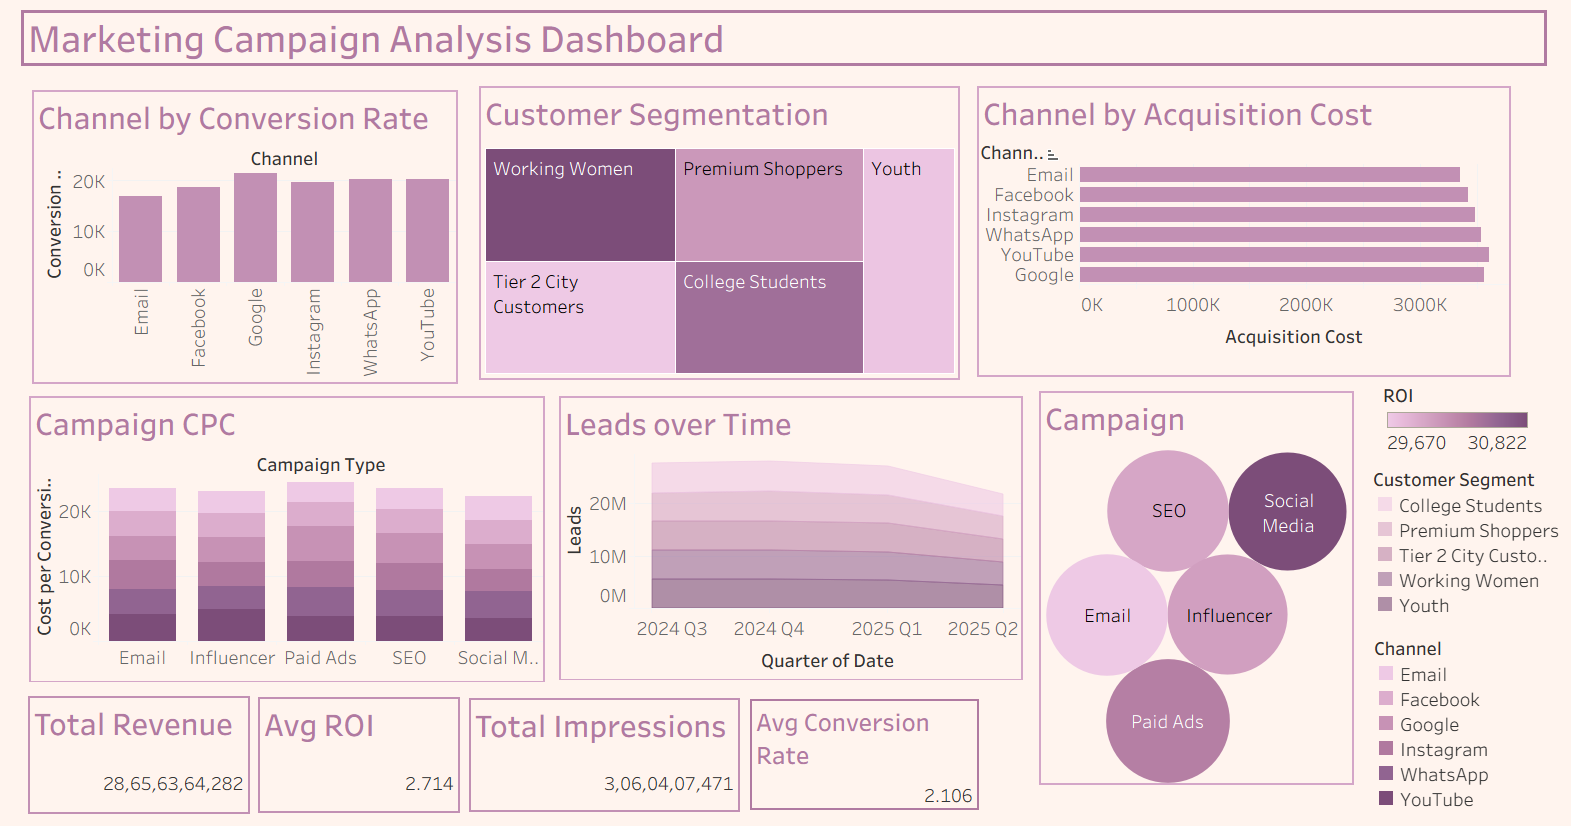

Layout of this report page (visuals, bound fields, positions):
{"tool":"tableau","page":{"name":"Dashboard 1","canvas":[1000,1000],"units":"permille","ordinal":0},"visuals":[{"type":"title","box":[5.2,9.9,989.7,79.3]},{"type":"worksheet","title":"Sheet 4","mark":"Automatic","box":[303.2,102.9,310.3,342]},{"type":"worksheet","title":"Sheet 5","mark":"Automatic","rows":["channel"],"cols":["acquisition_cost"],"box":[624.5,102.9,344.5,338.3]},{"type":"worksheet","title":"Sheet 1","mark":"Automatic","rows":["conversion_rate"],"cols":["channel"],"box":[14.8,106.6,274.8,342]},{"type":"legend","title":"Sheet 4","param":"[federated.0o60k540fuaypf1h8q84403o8qbe].[sum:ROI:qk]","box":[886.5,446.1,96.1,91.7]},{"type":"worksheet","title":"Sheet 3","mark":"Circle","box":[664.5,457.2,203.2,458.5]},{"type":"worksheet","title":"Sheet 2","mark":"Automatic","rows":["Cost per Conversion"],"cols":["Campaign_Type"],"box":[12.9,462.2,332.9,333.3]},{"type":"worksheet","title":"Sheet 8","mark":"Area","rows":["leads"],"cols":["date"],"box":[354.8,462.2,299.4,330.9]},{"type":"legend","title":"Sheet 8","param":"[federated.0o60k540fuaypf1h8q84403o8qbe].[none:customer_segment:nk]","box":[880,544,123.2,187.1]},{"type":"legend","title":"Sheet 2","param":"[federated.0o60k540fuaypf1h8q84403o8qbe].[none:channel:nk]","box":[901.9,737.3,90.3,233]},{"type":"worksheet","title":"Sheet 10","mark":"Automatic","box":[12.3,811.6,143.2,137.6]},{"type":"worksheet","title":"Sheet 9","mark":"Automatic","box":[160.7,812.9,130.3,135.1]},{"type":"worksheet","title":"Sheet 11","mark":"Automatic","box":[296.8,814.1,174.8,132.6]},{"type":"worksheet","title":"Sheet 12","mark":"Automatic","box":[478.1,815.4,147.7,128.9]}]}

Visuals, with their boxes on the dashboard's canvas, which has no fixed pixel size, in thousandths of its width and height (x1, y1, x2, y2). These are canvas units, not pixel positions in the 1571x826 screenshot, which may show the page scaled, cropped or inside an application window:
title: <box>5,10,995,89</box>
"Sheet 4" worksheet: <box>303,103,614,445</box>
"Sheet 5" worksheet: <box>624,103,969,441</box>
"Sheet 1" worksheet: <box>15,107,290,449</box>
"Sheet 4" legend: <box>886,446,983,538</box>
"Sheet 3" worksheet (Circle marks): <box>664,457,868,916</box>
"Sheet 2" worksheet: <box>13,462,346,796</box>
"Sheet 8" worksheet (Area marks): <box>355,462,654,793</box>
"Sheet 8" legend: <box>880,544,1003,731</box>
"Sheet 2" legend: <box>902,737,992,970</box>
"Sheet 10" worksheet: <box>12,812,156,949</box>
"Sheet 9" worksheet: <box>161,813,291,948</box>
"Sheet 11" worksheet: <box>297,814,472,947</box>
"Sheet 12" worksheet: <box>478,815,626,944</box>
